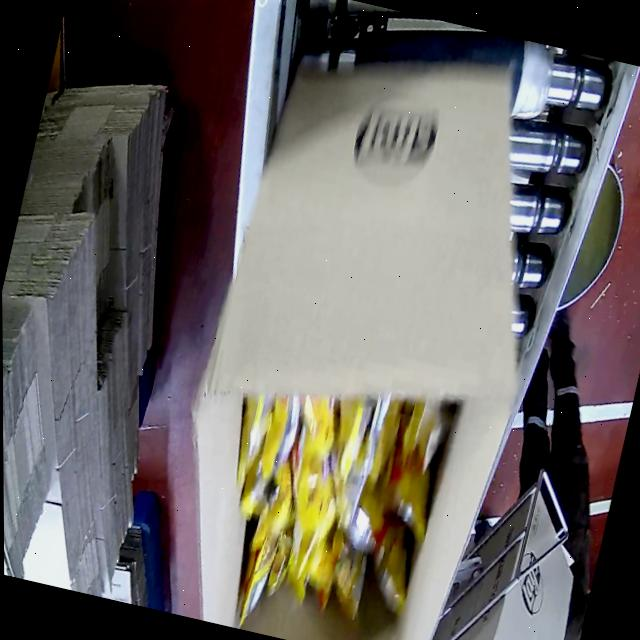SALTED: (210, 376, 468, 636)
